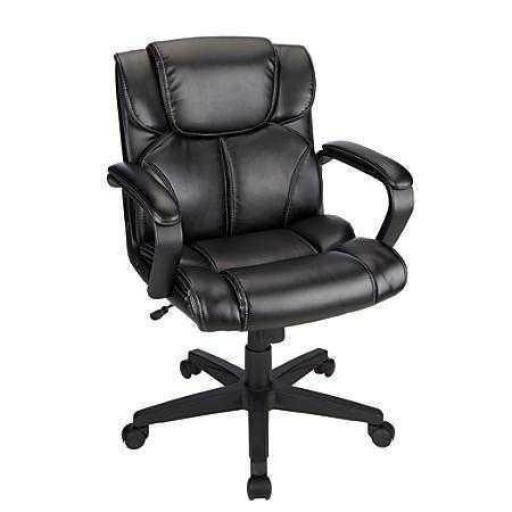chair: (110, 26, 417, 501)
